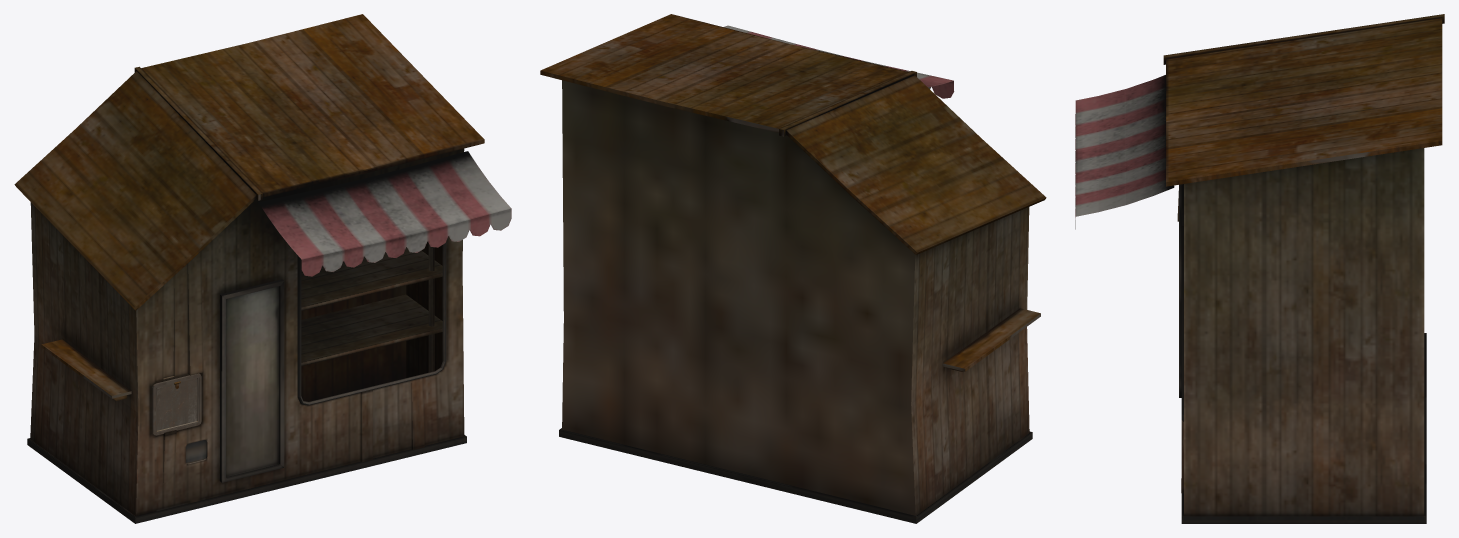
Rendered from SM_ARC_Shop.fbx.
3 renders of one model, left to right at view 1: azimuth 30°, elevation 25°; view 2: azimuth 150°, elevation 25°; view 3: azimuth 270°, elevation 25°, orthographic. The views are drawn at different scales.
Visible parts, largest first — view 1: ARC_Shop, ARC_Shop_Panel; view 2: ARC_Shop; view 3: ARC_Shop.
Part boxes in pixels (x1,y1,x2,y2): ARC_Shop: (14,14,511,523); ARC_Shop_Panel: (156,377,198,432); ARC_Shop: (540,14,1046,523); ARC_Shop: (1075,14,1444,523).
Size of the model in its own units: 285 by 261 by 224.
Materials: 1 (1 with a texture image).
